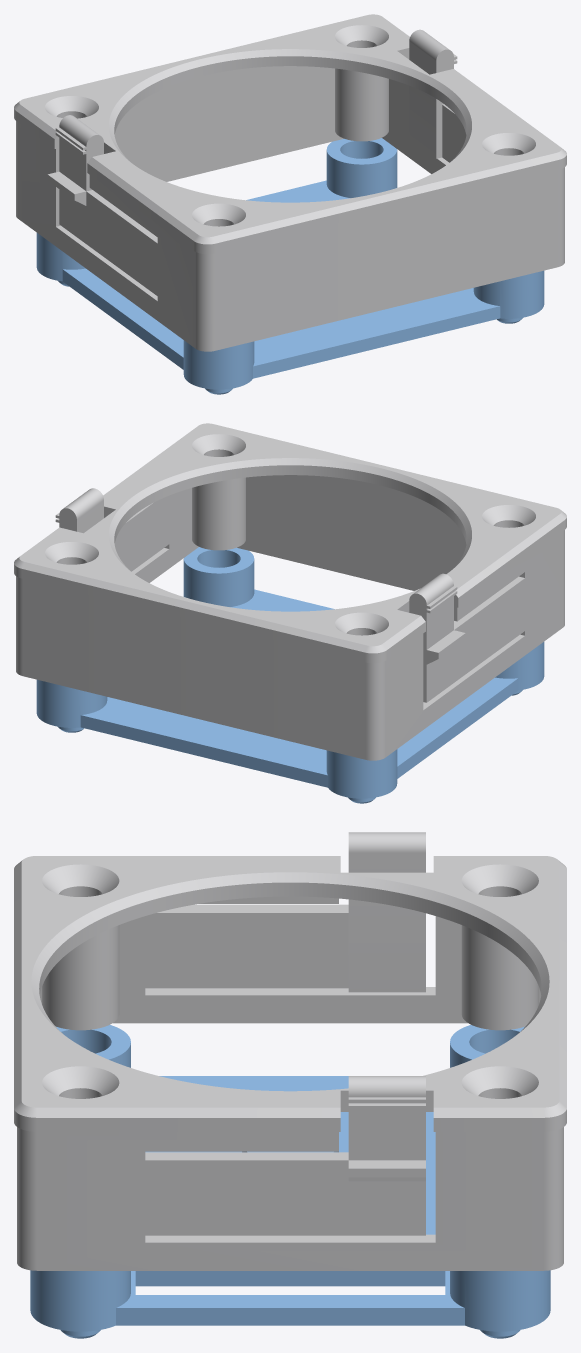
The model's file is retainer.glb.
3 views of the same model, one above another, from view 1: azimuth 30°, elevation 25°; view 2: azimuth 150°, elevation 25°; view 3: azimuth 270°, elevation 25° (orthographic). The views are drawn at different scales.
Visible parts, largest first — view 1: retainer, base; view 2: retainer, base; view 3: retainer, base.
Boxes of the visible parts, bbox=[...] form: retainer: bbox=[14, 14, 566, 351]; base: bbox=[36, 138, 544, 394]; retainer: bbox=[14, 423, 566, 760]; base: bbox=[36, 547, 544, 803]; retainer: bbox=[14, 832, 566, 1270]; base: bbox=[30, 1025, 550, 1338].
Bounding box in the file's own units: 0.0333 × 0.0157 × 0.0286.
